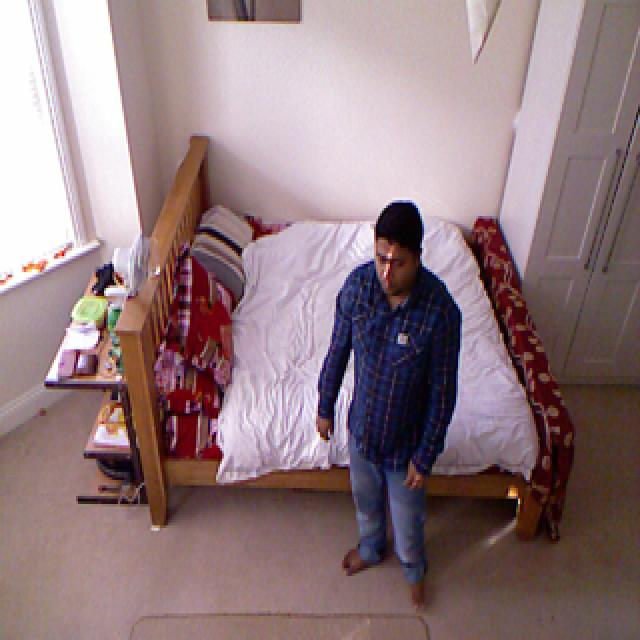standing: (315, 203, 463, 590)
